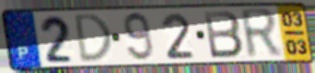2: (38, 12, 79, 67), (160, 11, 197, 61)
9: (123, 10, 157, 63)
B: (202, 9, 246, 60)
D: (73, 13, 114, 65)
R: (238, 6, 284, 62)
